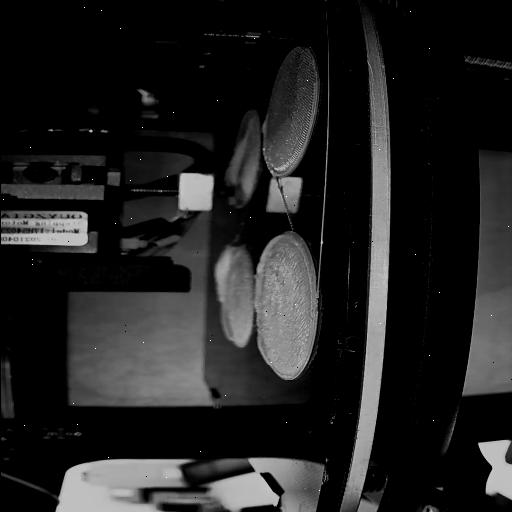over_extrusion: (252, 230, 318, 304), (220, 132, 252, 186), (209, 242, 234, 306), (216, 311, 236, 342), (252, 332, 270, 366), (256, 116, 270, 134)
